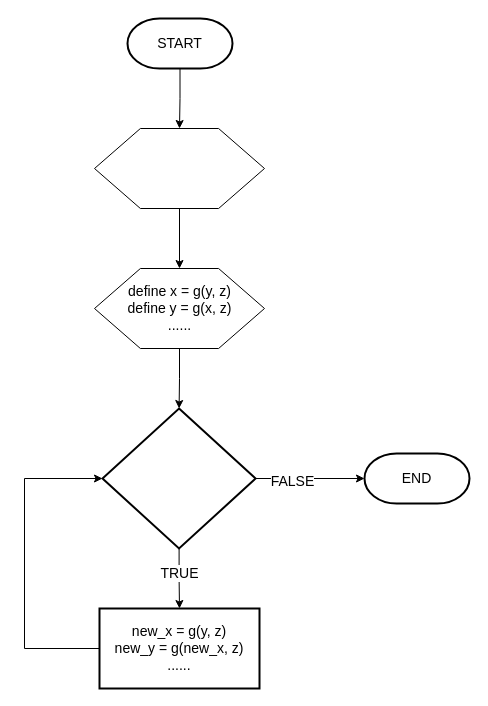
Image size: 488x706. Some labels were removed from this diagram. The shapes that lost their labels are listed below. From the top down, each one's centre as x and y in pixels, then its label:
(x=179, y=168): define f(x) define max iter
(x=178, y=478): i = max iter i < 0?
